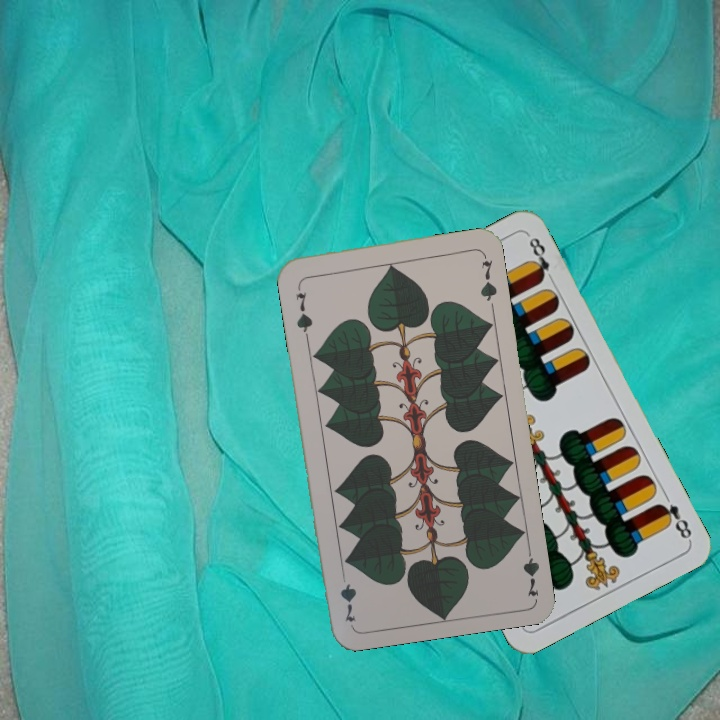E8: (653, 499, 694, 543)
G7: (519, 539, 542, 599), (291, 288, 315, 339)
